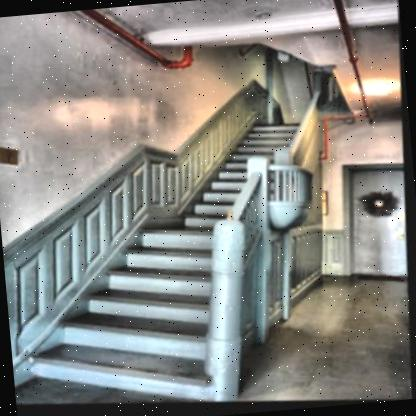stair: (10, 98, 330, 399)
